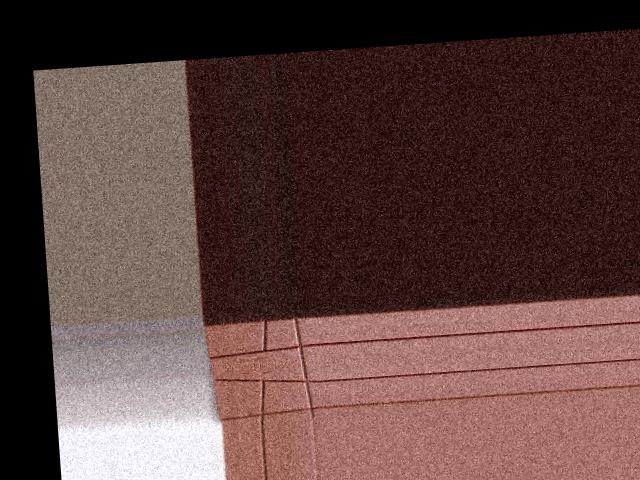chocolate: (201, 312, 319, 425)
